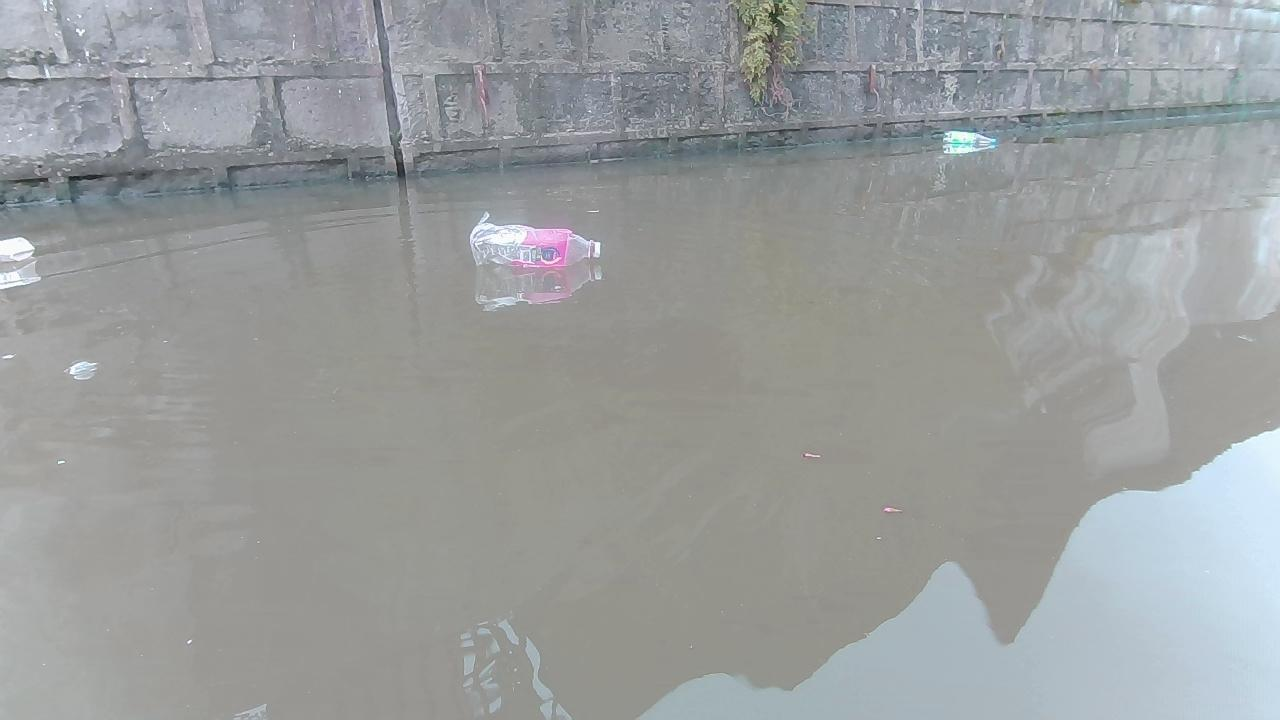Plastic: (467, 220, 604, 270), (0, 236, 36, 262), (942, 130, 998, 146)
